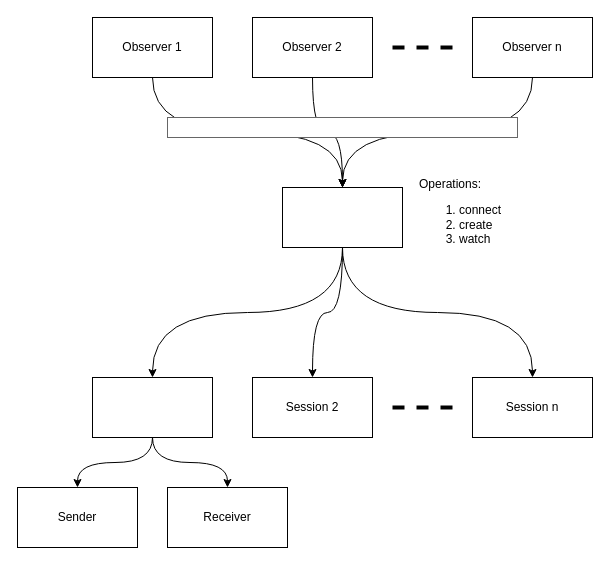
The diagram is 610 pixels wide and 565 high, and some of its shapes have lost their labels. The box of each missing label's shape, as (x1, y1, x2, y2) in pixels:
Router: (166, 116, 518, 138)
Session 1: (92, 376, 212, 438)
SessionManager: (282, 186, 402, 248)
